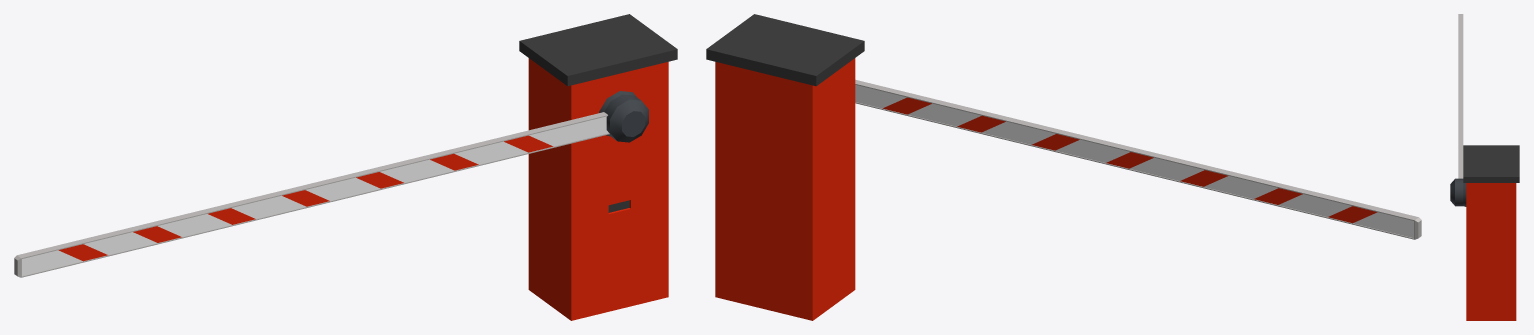
File: Parking Entry System_1.fbx
The picture shows the model from 3 angles, left to right: view 1: azimuth 30°, elevation 25°; view 2: azimuth 150°, elevation 25°; view 3: azimuth 270°, elevation 25°; orthographic projection. The views are drawn at different scales.
Visible parts, largest first — view 1: Parking Entry System_1; view 2: Parking Entry System_1; view 3: Parking Entry System_1.
Part boxes in pixels (bbox=[...]): Parking Entry System_1: bbox=[14, 14, 677, 320]; Parking Entry System_1: bbox=[706, 14, 1421, 320]; Parking Entry System_1: bbox=[1450, 14, 1519, 320].
Size of the model in its own units: 646 by 231 by 99.72.
